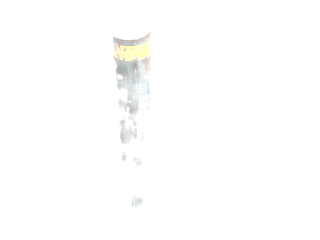Obstacle: (101, 19, 171, 210)
